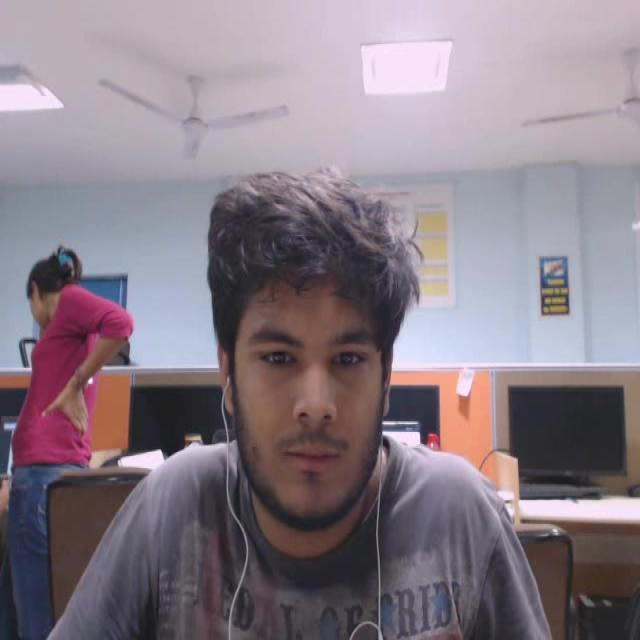Engaged: (199, 140, 428, 570)
